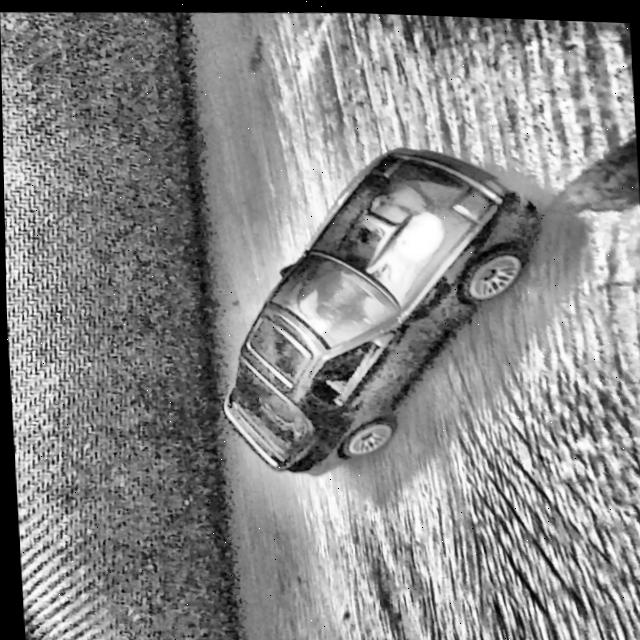car: (206, 133, 553, 482)
